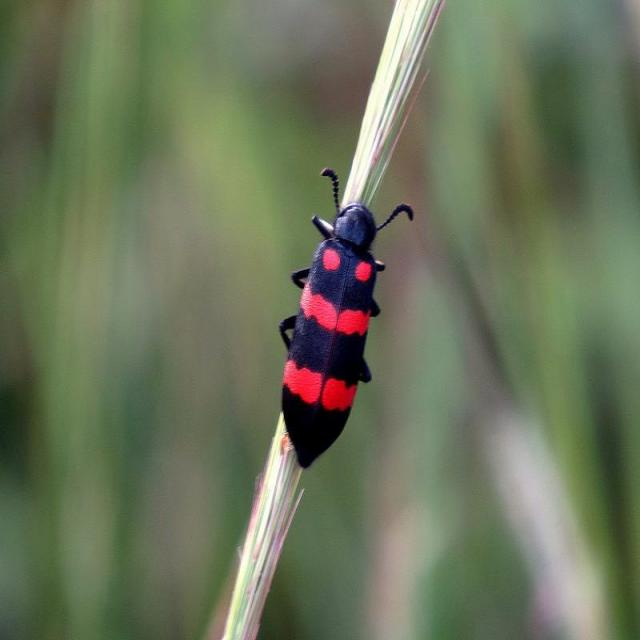BlisterBeetle-Adult-: (279, 162, 421, 481)
